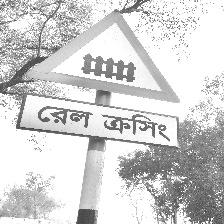Rail-crossing: (16, 10, 182, 149)
